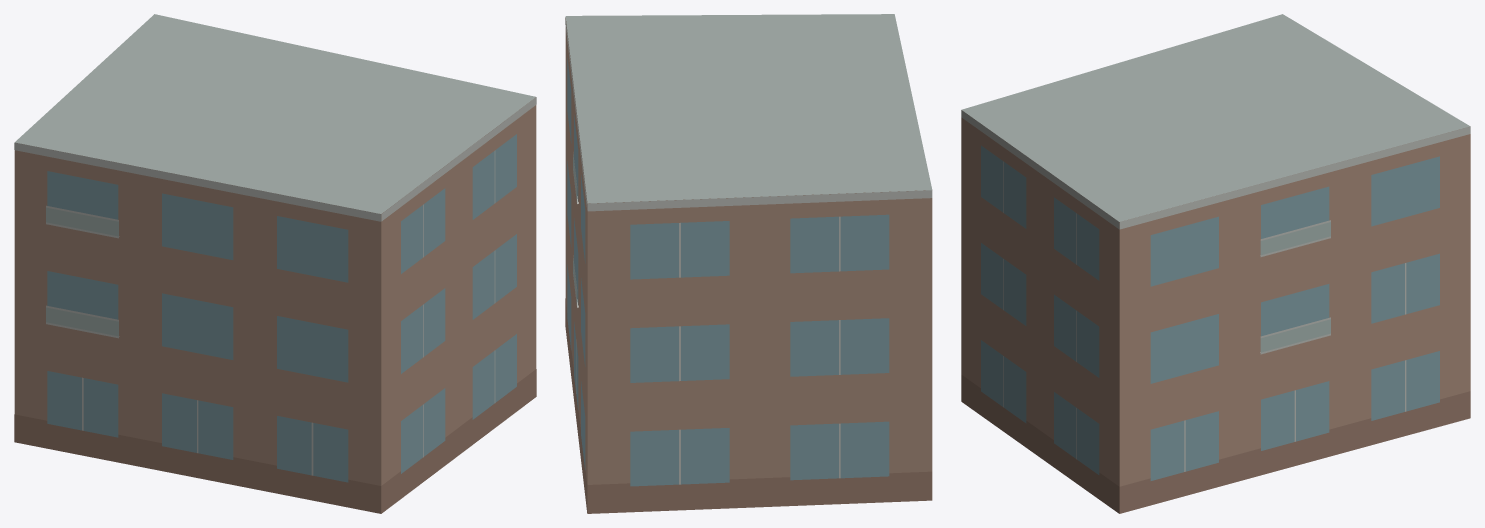
File: survey-upis-32590302.glb
The picture shows the model from 3 angles, left to right: view 1: azimuth 30°, elevation 25°; view 2: azimuth 150°, elevation 25°; view 3: azimuth 270°, elevation 25°; orthographic projection. The views are drawn at different scales.
Visible parts, largest first — view 1: survey-upis-32590302.tmp; view 2: survey-upis-32590302.tmp; view 3: survey-upis-32590302.tmp.
Part boxes in pixels (<box>): survey-upis-32590302.tmp: <box>14,14,536,513</box>; survey-upis-32590302.tmp: <box>565,14,932,513</box>; survey-upis-32590302.tmp: <box>961,14,1470,513</box>.
Bounding box in the file's own units: 14.52 × 9.49 × 15.02.
